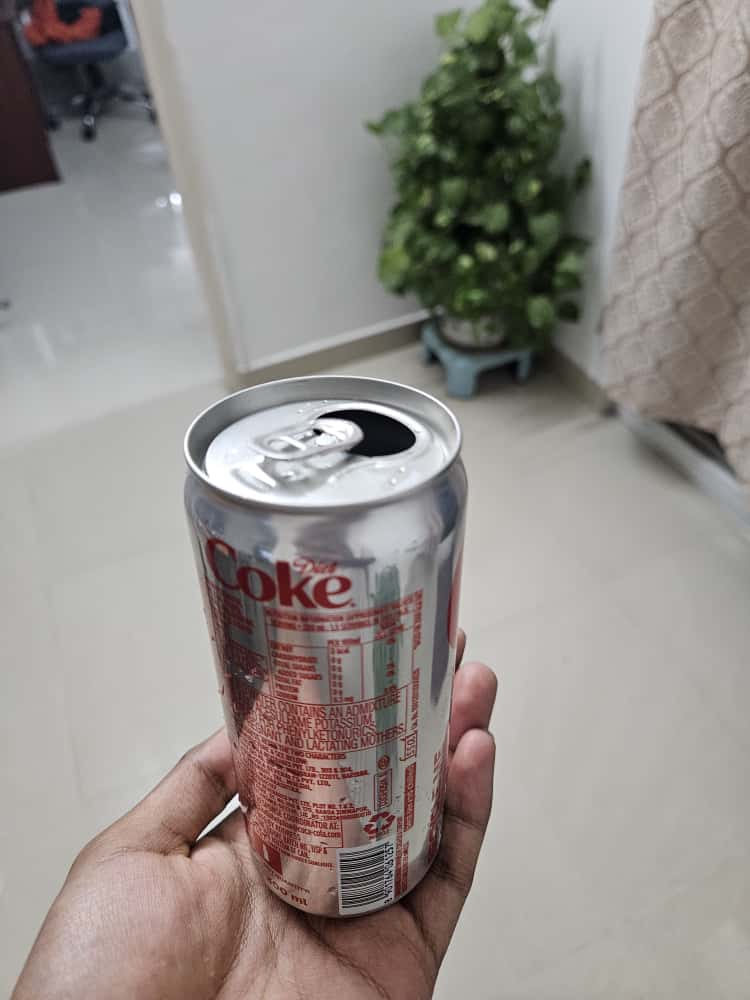dry: (154, 363, 508, 932)
